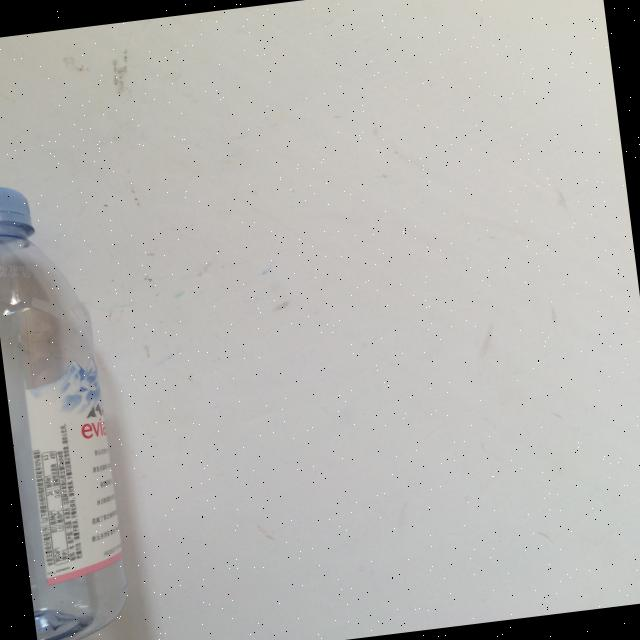plastic: (0, 173, 135, 640)
